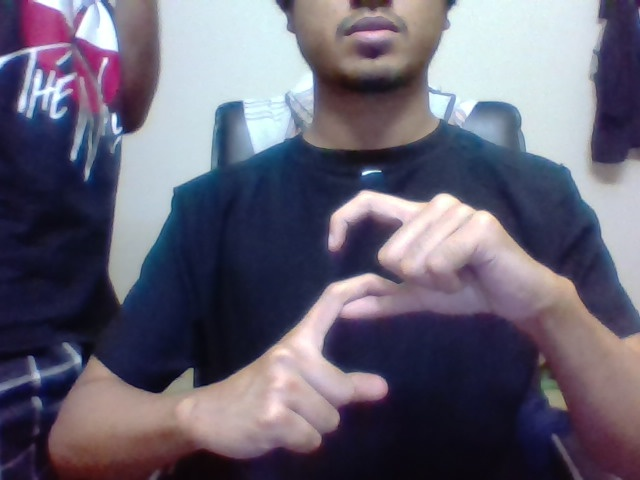S: (317, 185, 408, 402)
